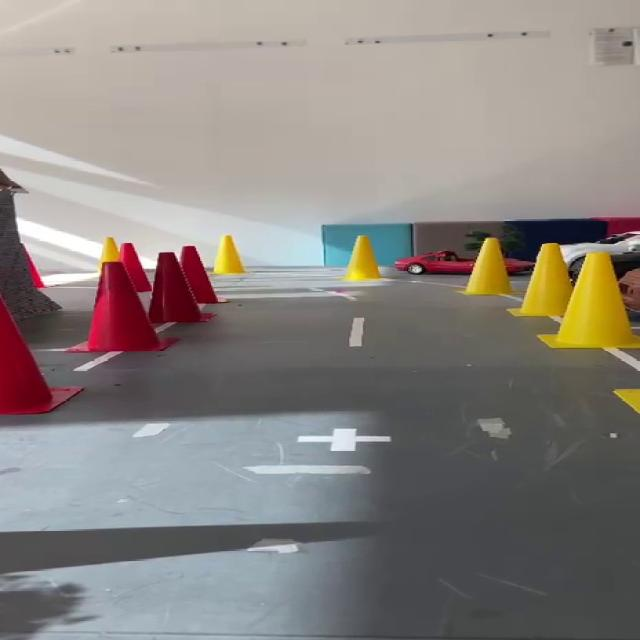Cone-red: (0, 298, 81, 415), (68, 261, 168, 351), (149, 252, 210, 324), (181, 246, 225, 302), (120, 243, 150, 293), (25, 248, 46, 288)
Cones-yellow: (539, 253, 639, 348), (510, 243, 571, 317), (458, 238, 516, 295), (345, 235, 381, 279), (215, 235, 246, 274), (101, 237, 119, 272), (614, 389, 639, 413)
